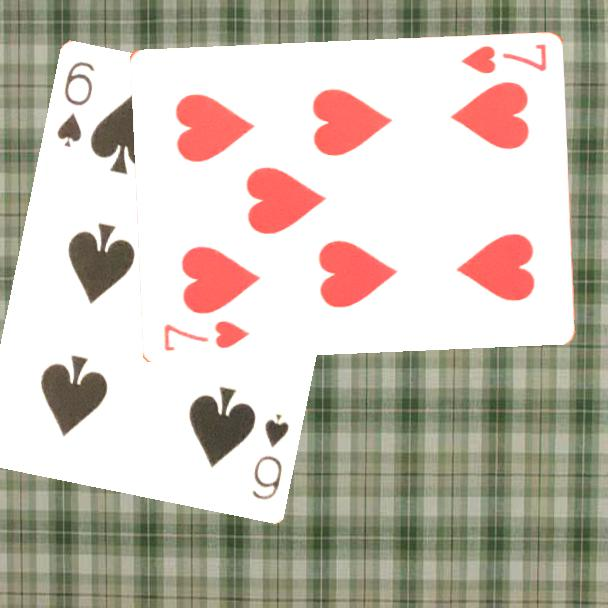h07: (160, 317, 252, 355), (457, 41, 549, 78)
s06: (53, 58, 98, 151), (249, 411, 293, 504)
